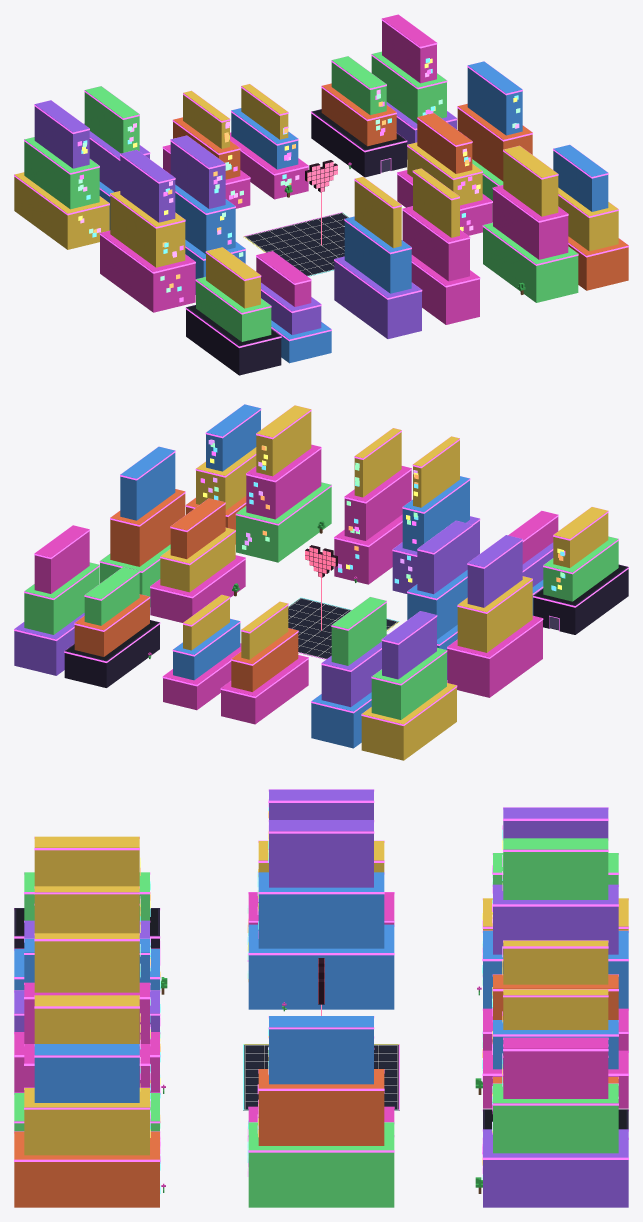
3 views of the same model, one above another, from view 1: azimuth 30°, elevation 25°; view 2: azimuth 150°, elevation 25°; view 3: azimuth 270°, elevation 25° (orthographic). The views are drawn at different scales.
Parts seen in each view (by area): view 1: district_city_pixel.lod0; view 2: district_city_pixel.lod0; view 3: district_city_pixel.lod0.
Part boxes in pixels (left/top/right/bottom): district_city_pixel.lod0: left=14, top=14, right=628, bottom=375; district_city_pixel.lod0: left=14, top=404, right=628, bottom=760; district_city_pixel.lod0: left=14, top=789, right=628, bottom=1207.
Size of the model in its own units: 97.1 by 29.96 by 97.1.
